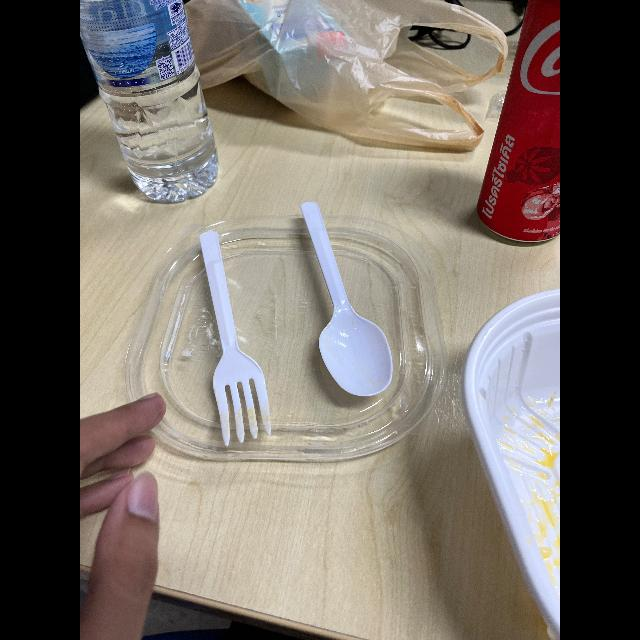plastic_cultery: (178, 227, 286, 455), (287, 189, 398, 393)
